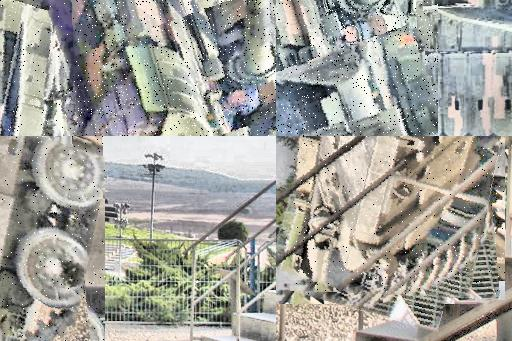tanks: (295, 137, 490, 295), (1, 1, 221, 137), (277, 1, 438, 137), (1, 137, 106, 341), (381, 1, 512, 137), (189, 1, 277, 137)
